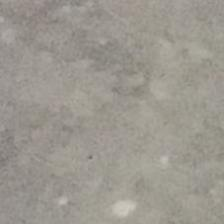Non_Crack: (18, 26, 224, 206)
